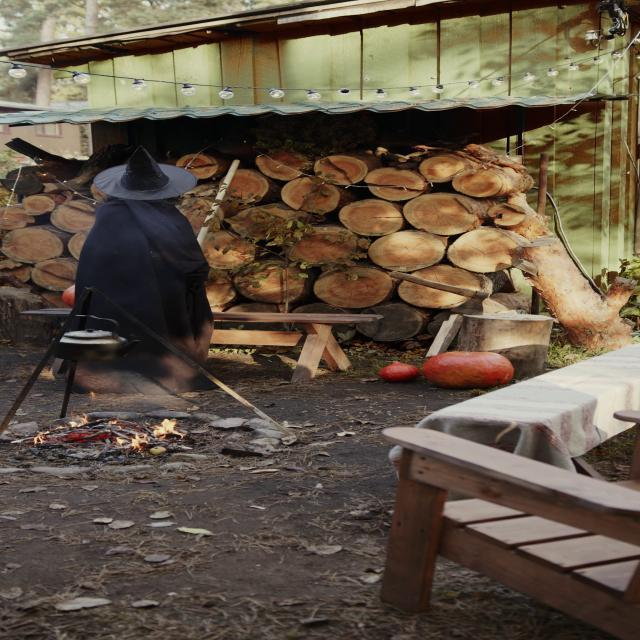Fire: (48, 408, 190, 443)
